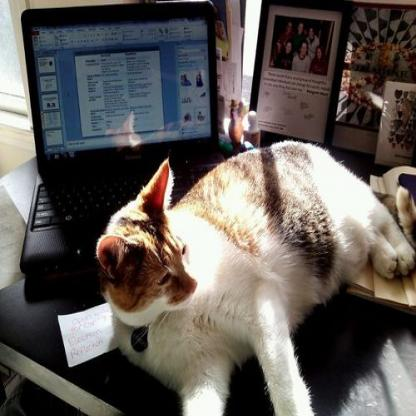Target: (99, 130, 416, 416)
